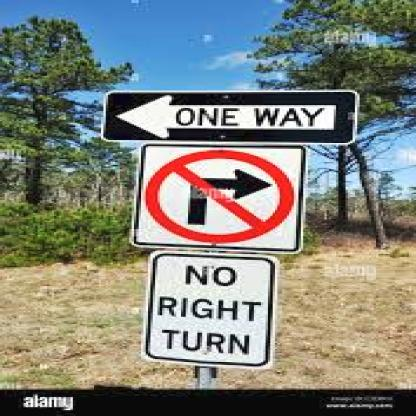No right turn: (144, 145, 300, 246)
